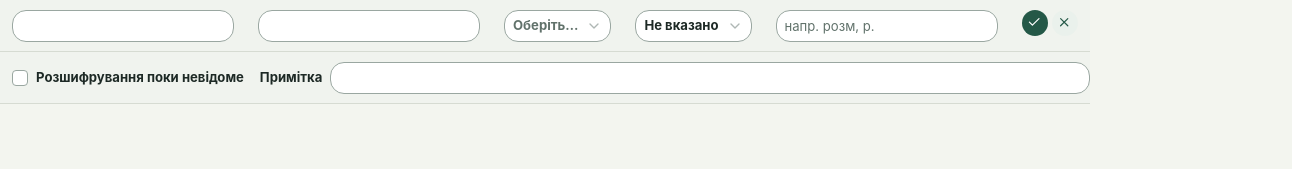
Test case: AbbreviationRowForm › requires a full form unless the entry is marked unresolved (AC2)
Type "заст." into the field named "Скорочення" at (123, 26), box [12, 10, 234, 42]
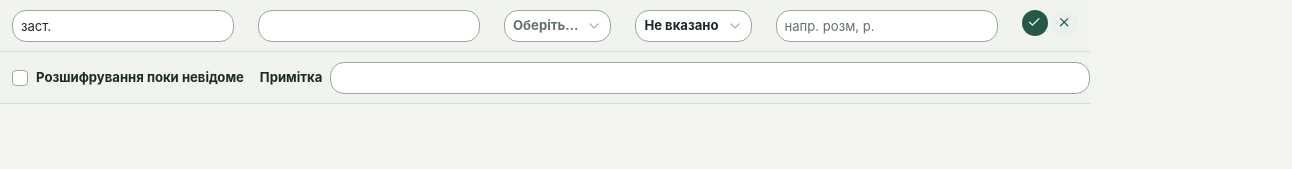
Click the button named "Зберегти" at (1034, 23), box [1022, 10, 1048, 36]
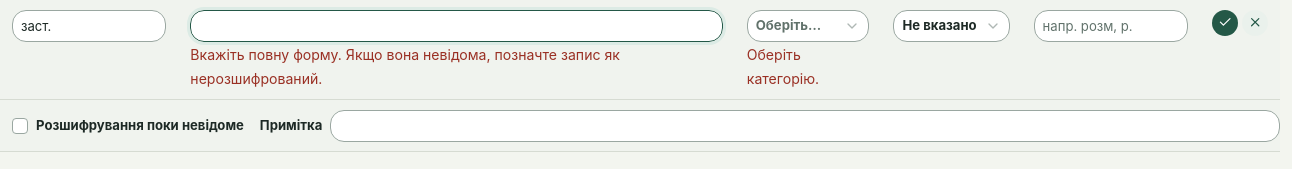
Expected: the text "Вкажіть повну форму" is shown, [190, 46, 620, 87]
